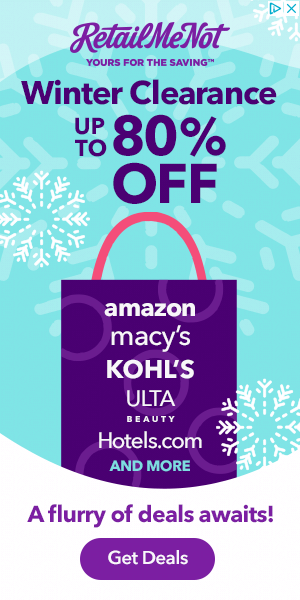fake_button: (77, 537, 219, 585)
